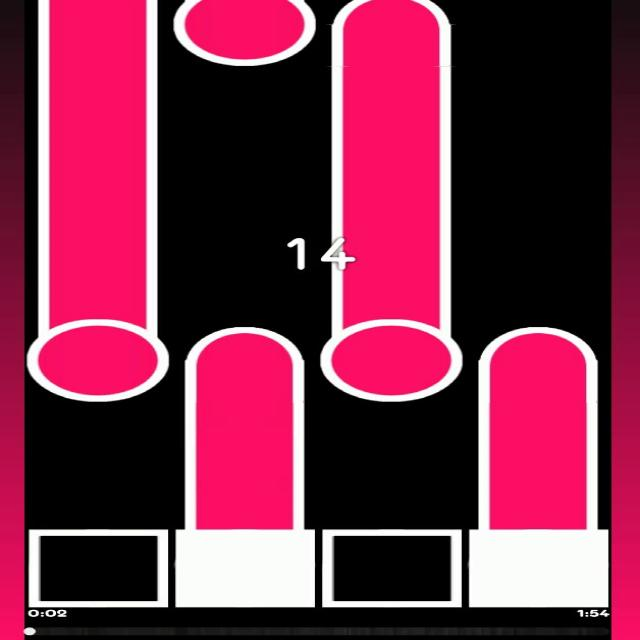end_hold: (180, 304, 312, 366), (476, 312, 603, 366), (330, 0, 457, 32)
start_hold: (322, 297, 463, 402), (28, 298, 169, 402), (172, 0, 317, 67)
